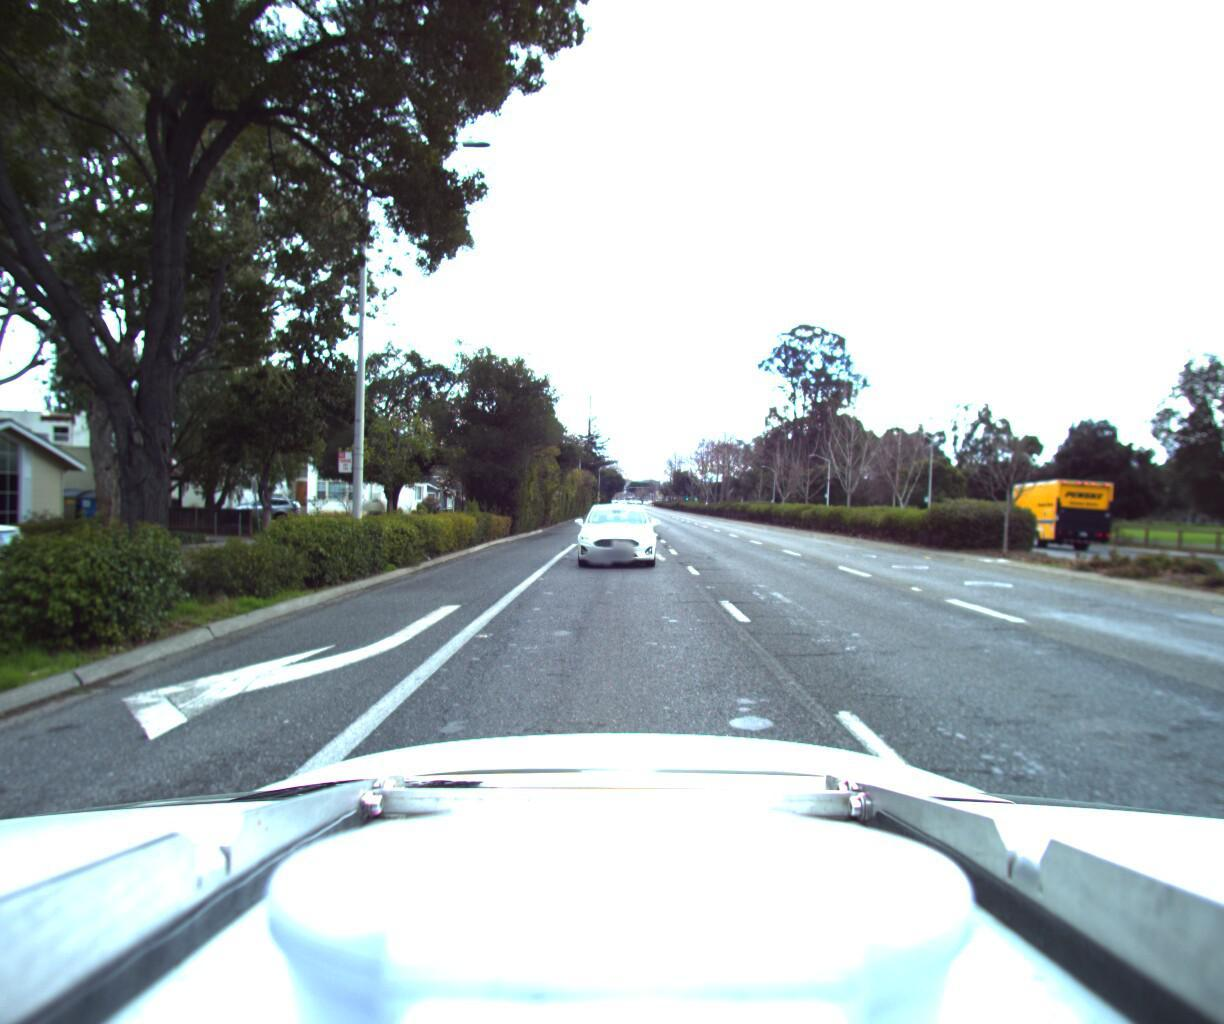car: (0, 516, 61, 644), (566, 496, 656, 570), (223, 491, 304, 521)
truck: (973, 471, 1104, 545)
